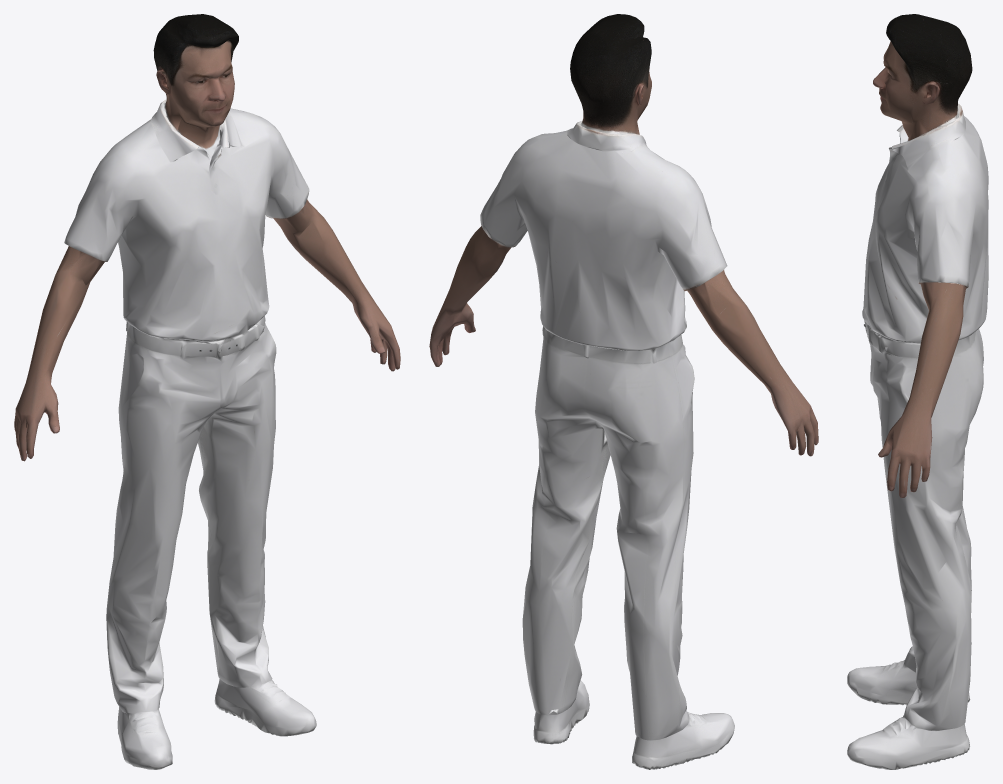
The model's file is Meshy_AI_Man_in_White_Polo_and_Pants_20261124_texture.fbx.
The picture shows the model from 3 angles, left to right: view 1: azimuth 30°, elevation 25°; view 2: azimuth 150°, elevation 25°; view 3: azimuth 270°, elevation 25°; orthographic projection.
Parts seen in each view (by area): view 1: Mesh_0; view 2: Mesh_0; view 3: Mesh_0.
Boxes of the visible parts, left/top/right/bottom form: Mesh_0: left=14, top=14, right=400, bottom=769; Mesh_0: left=429, top=14, right=818, bottom=769; Mesh_0: left=847, top=14, right=988, bottom=769.
Bounding box in the file's own units: 99.13 × 180 × 32.55.
1 material, 1 textured.
